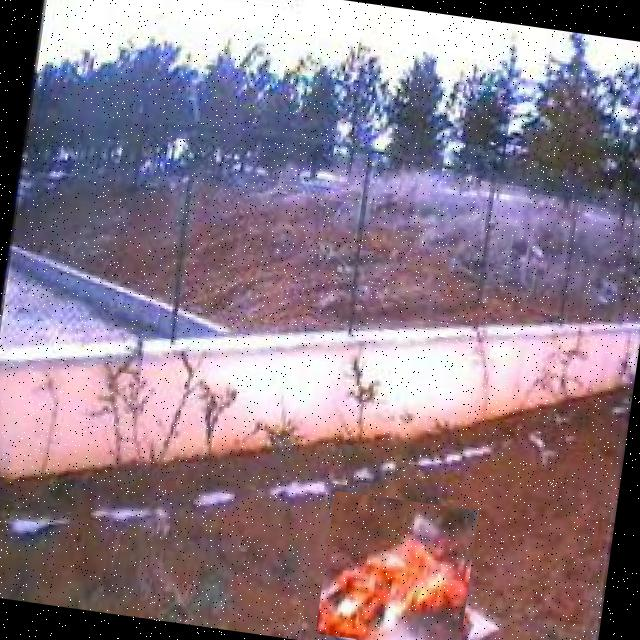fire: (315, 490, 479, 640)
